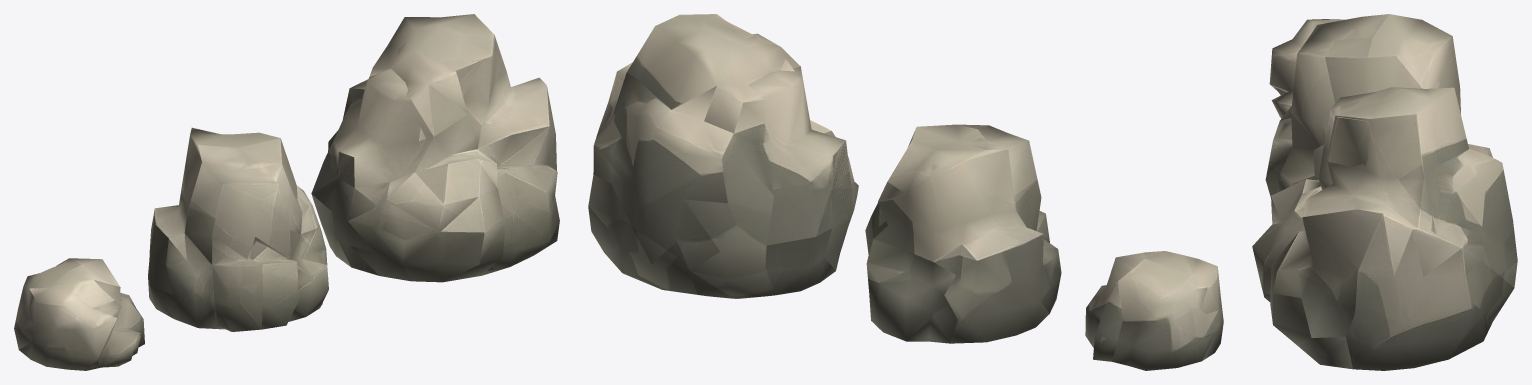
File: limestone-boulders.glb
The picture shows the model from 3 angles, left to right: view 1: azimuth 30°, elevation 25°; view 2: azimuth 150°, elevation 25°; view 3: azimuth 270°, elevation 25°; orthographic projection. The views are drawn at different scales.
Parts seen in each view (by area): view 1: mesh_node; view 2: mesh_node; view 3: mesh_node.
Part boxes in pixels (box(x1,y1,x2,y2)): mesh_node: box(14, 14, 559, 370); mesh_node: box(588, 14, 1223, 370); mesh_node: box(1252, 14, 1517, 370).
Size of the model in its own units: 2 by 0.7715 by 0.7734.
1 material, 1 textured.
